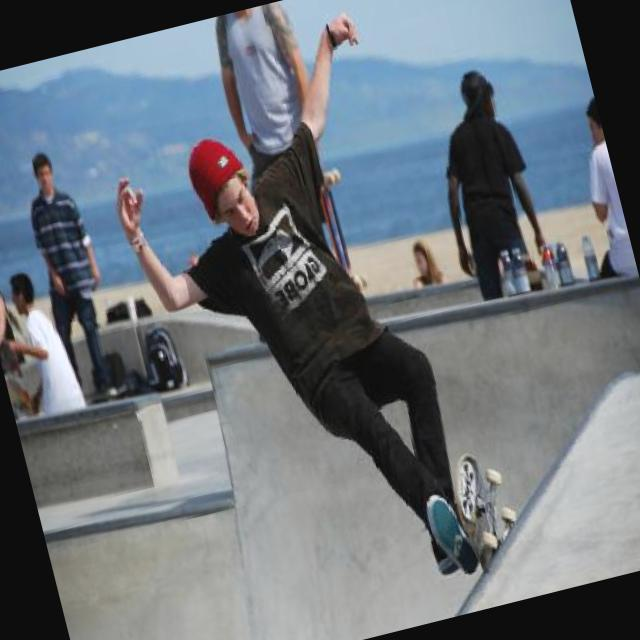Person: (82, 11, 490, 640), (416, 60, 556, 307), (14, 146, 130, 409), (204, 0, 329, 174), (555, 96, 639, 286), (0, 267, 86, 422), (0, 253, 27, 375), (402, 234, 448, 290)
